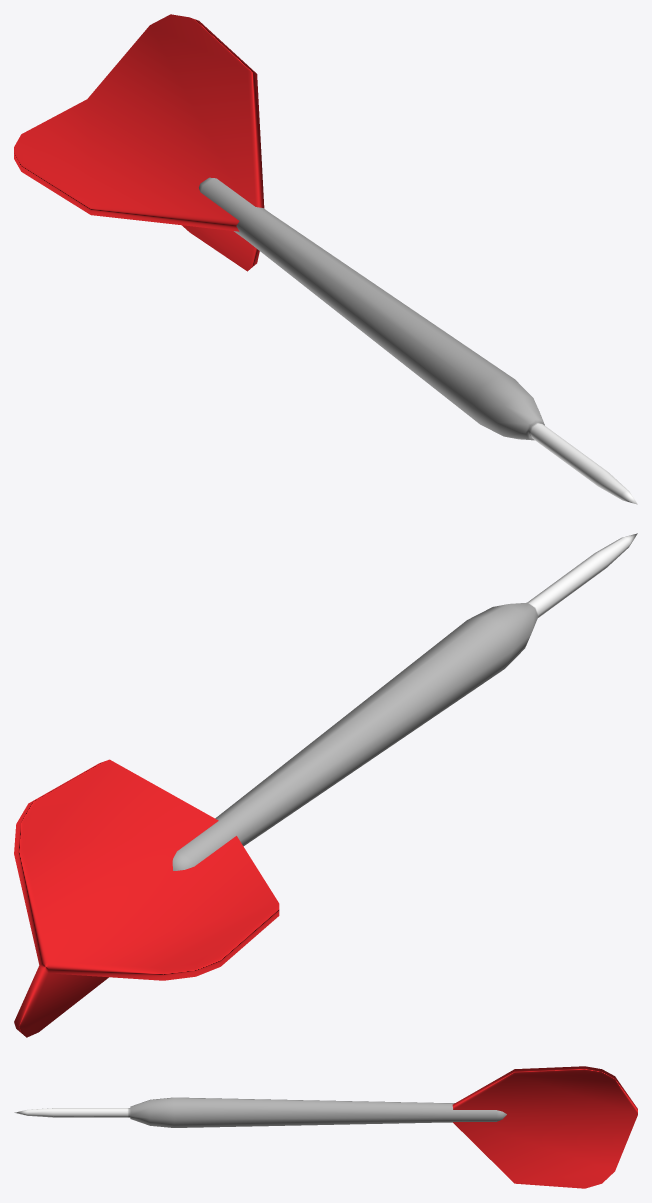
Rendered from dart.fbx.
3 views of the same model, one above another, from view 1: azimuth 30°, elevation 25°; view 2: azimuth 150°, elevation 25°; view 3: azimuth 270°, elevation 25° (orthographic). The views are drawn at different scales.
Visible parts, largest first — view 1: dart; view 2: dart; view 3: dart.
Boxes of the visible parts, x1,y1,x2,y2 form: dart: [14, 14, 637, 504]; dart: [14, 533, 637, 1037]; dart: [14, 1066, 637, 1188].
Size of the model in its own units: 5.21 by 6.02 by 27.78.
1 material, 1 textured.
